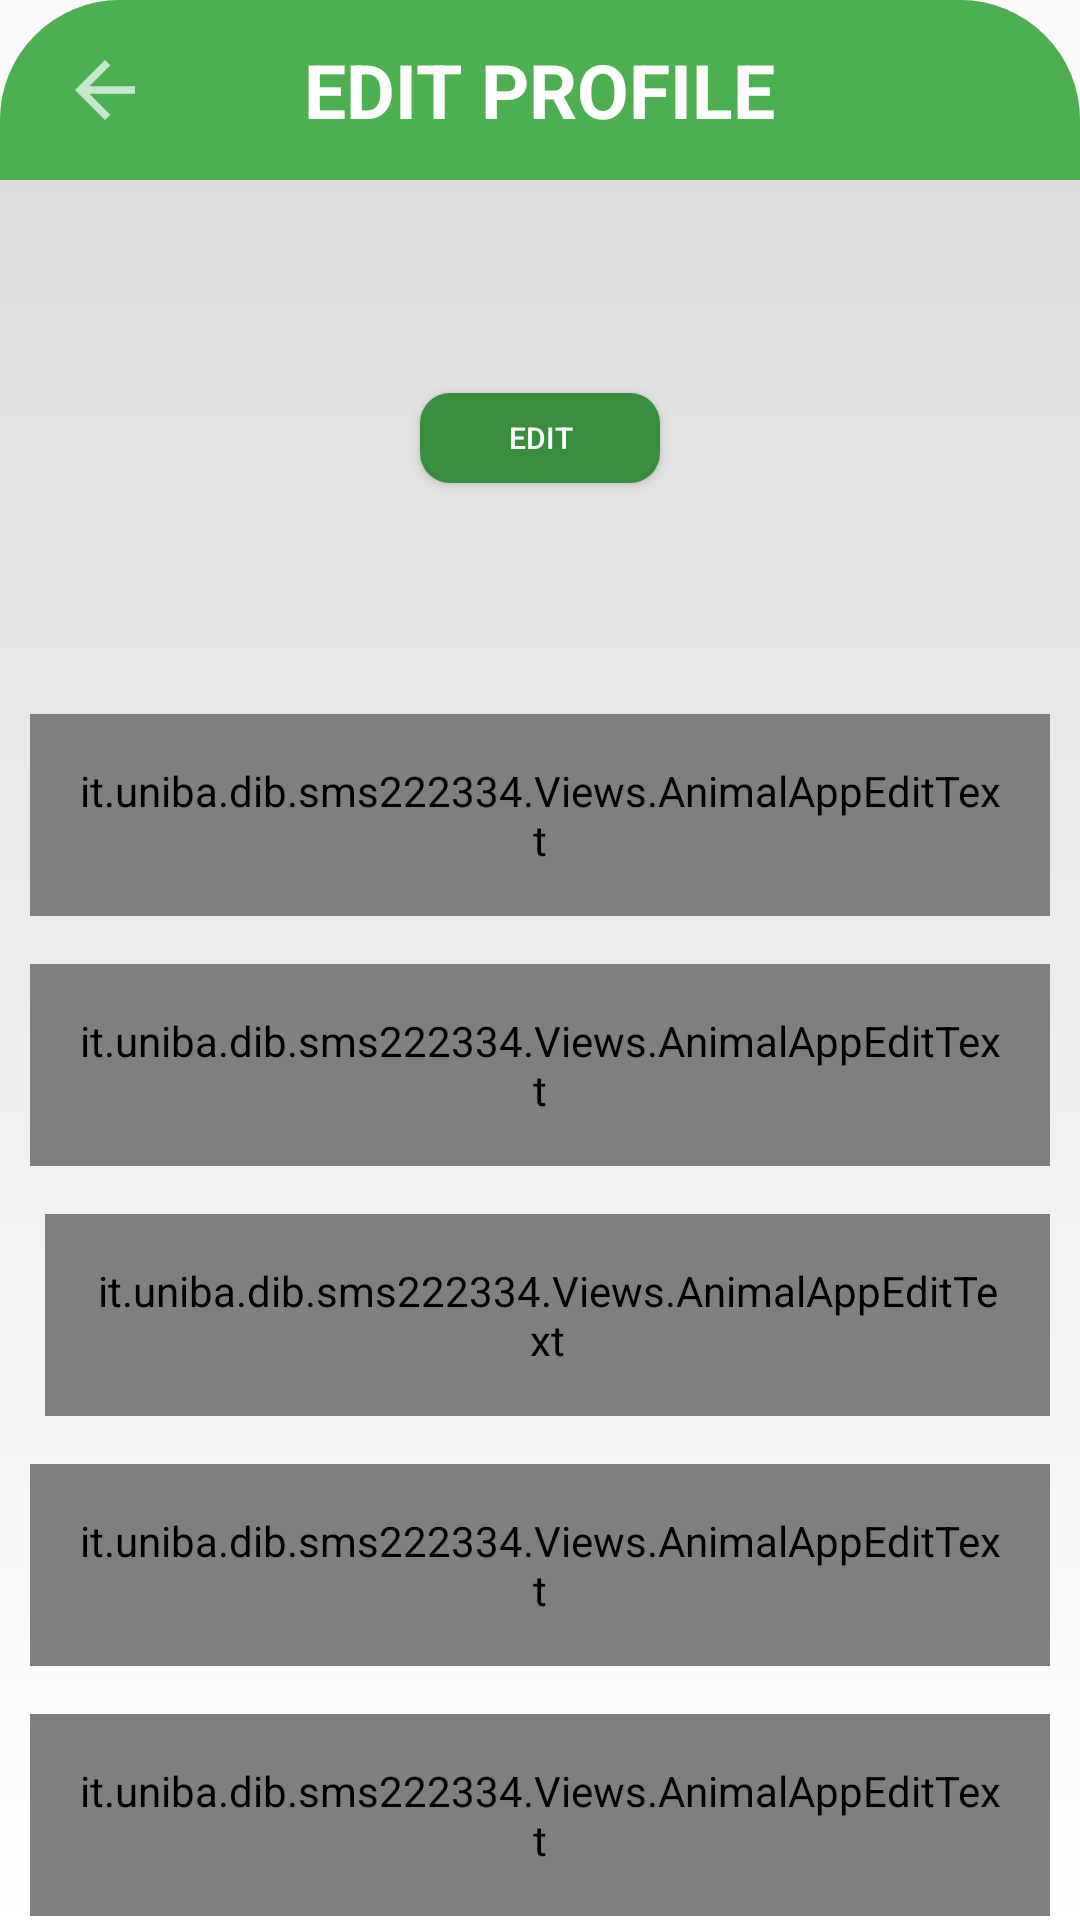

Screen size 1080x1920. Icon name, then its center in pixels as [x,y]:
arrow back: [105,90]
